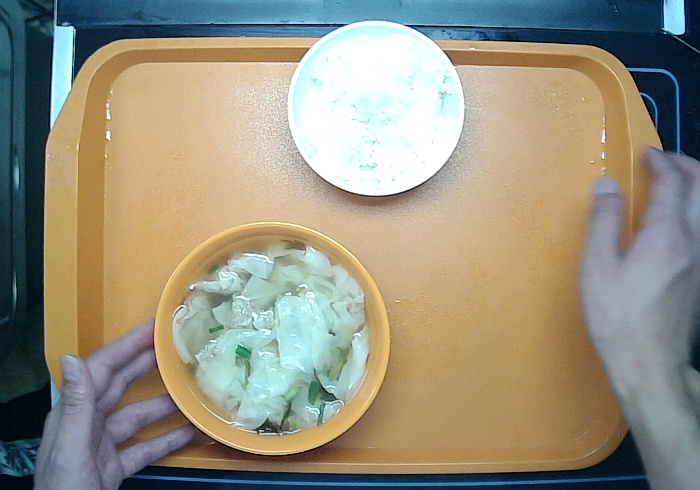NLDX-Fan_Wan: (281, 12, 469, 201)
NLDX-Hun_Tun_Wan: (141, 215, 396, 463)
